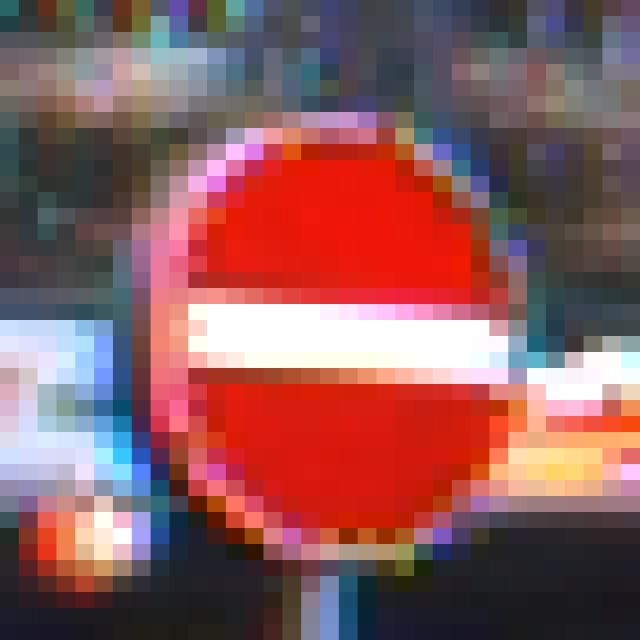No Entry: (95, 97, 547, 561)
